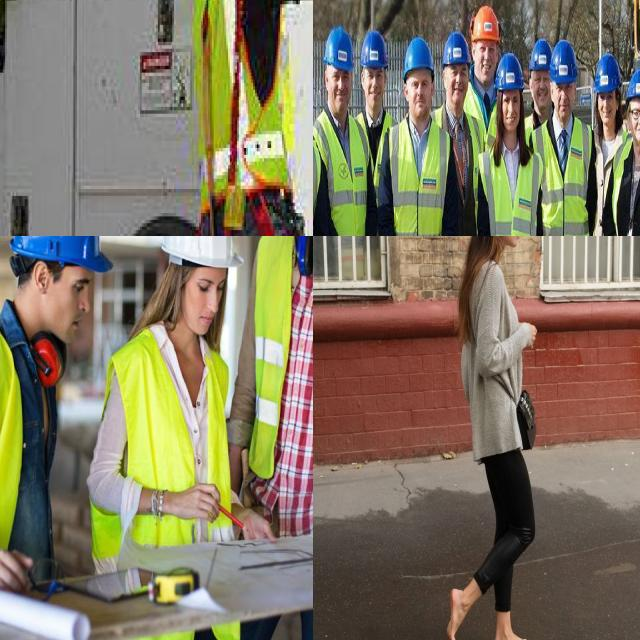Barefoots: (447, 588, 463, 640), (493, 633, 538, 640)
face_nomask: (38, 268, 95, 357), (160, 269, 227, 344), (442, 62, 470, 104), (406, 72, 434, 114), (475, 40, 498, 87), (552, 75, 574, 124), (328, 68, 349, 118), (500, 86, 520, 130), (596, 90, 618, 126), (364, 64, 384, 102), (534, 74, 552, 112), (631, 100, 640, 148)
glasses: (630, 105, 640, 123)
hand_noglove: (183, 474, 224, 527), (0, 541, 35, 598)
head_helmet: (8, 236, 114, 280), (159, 236, 243, 268), (322, 24, 354, 72), (402, 35, 434, 81), (359, 27, 390, 71), (550, 43, 580, 88), (493, 50, 524, 90), (440, 30, 471, 68), (592, 50, 620, 91), (470, 5, 500, 42), (528, 39, 552, 76), (625, 68, 640, 106)
person: (115, 236, 261, 571), (0, 236, 104, 605), (171, 0, 313, 236), (221, 236, 313, 522), (381, 37, 453, 236), (313, 26, 378, 236), (529, 40, 595, 236), (478, 54, 548, 236), (436, 31, 488, 236), (590, 49, 627, 236), (356, 30, 399, 184), (466, 10, 499, 146)
vest: (123, 336, 243, 561), (190, 0, 307, 213), (261, 236, 313, 522), (0, 333, 61, 575), (313, 106, 368, 236), (389, 121, 447, 236), (538, 119, 594, 236), (479, 142, 543, 236), (612, 136, 640, 236), (465, 68, 499, 138)
